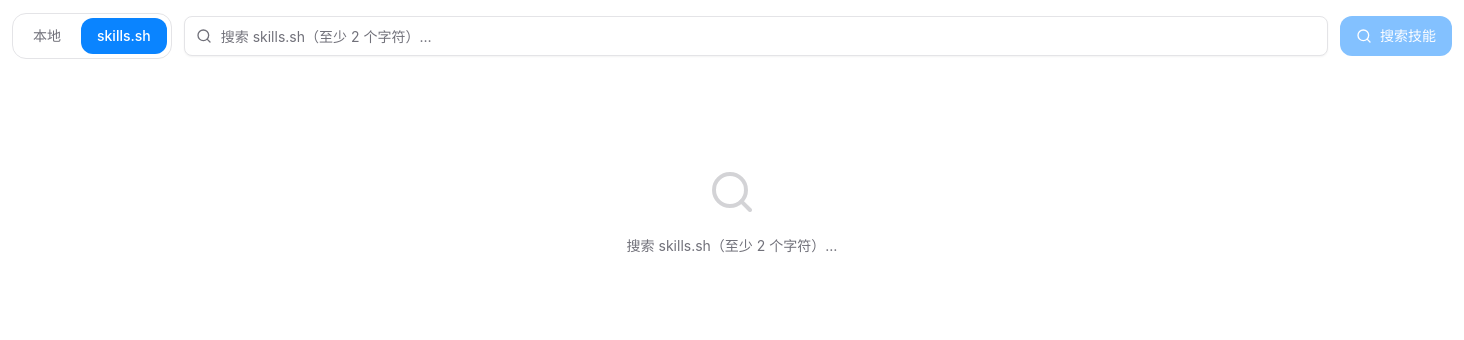
Test case: failed installs remain retryable and do not show installed
The width and height of the screenshot is (1464, 340).
Type "demo" into the field labelled "搜索 skills.sh". click: coordinates (756, 36)
box: [184,16,1328,56]
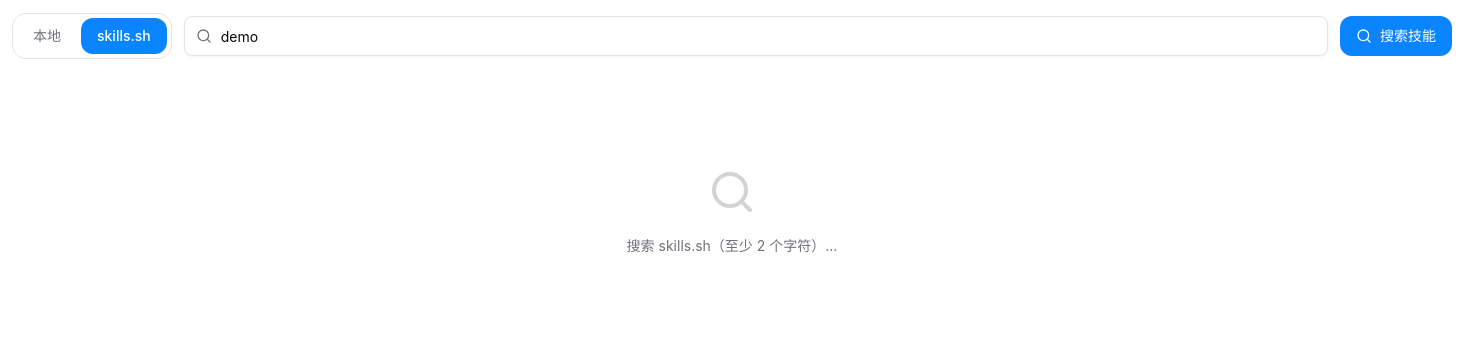
Click the button "搜索技能". click: coordinates (1396, 36)
box: [1340,16,1452,56]
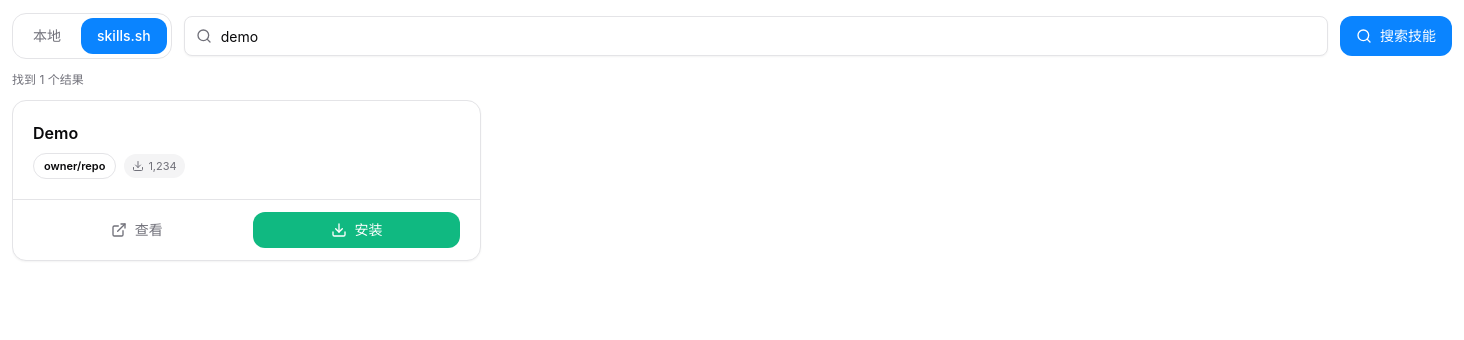
Click the button "安装". click: coordinates (357, 230)
box: [253,212,460,248]
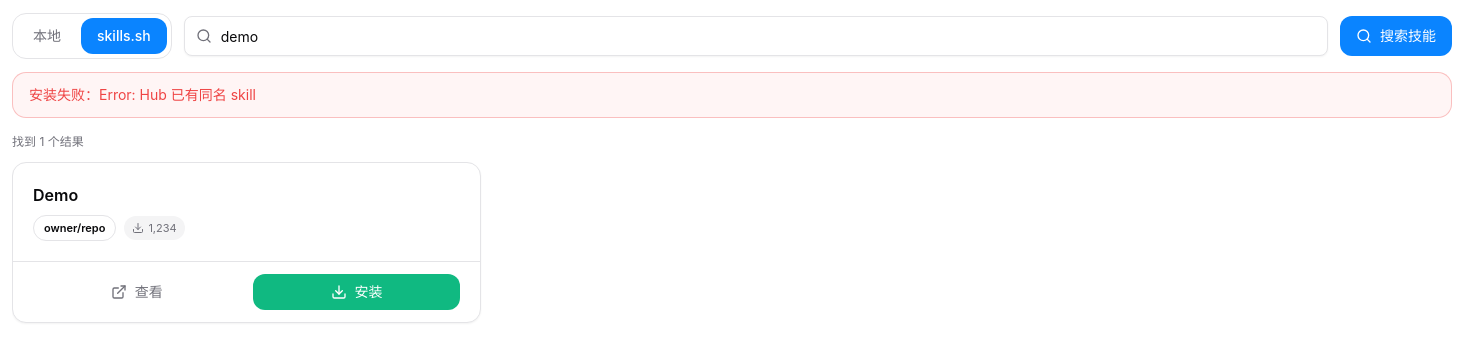
expect the button "安装" is enabled: met, box [253,274,460,310]
expect the message shows "Hub 已有同名 skill": met, box [99,86,256,103]
